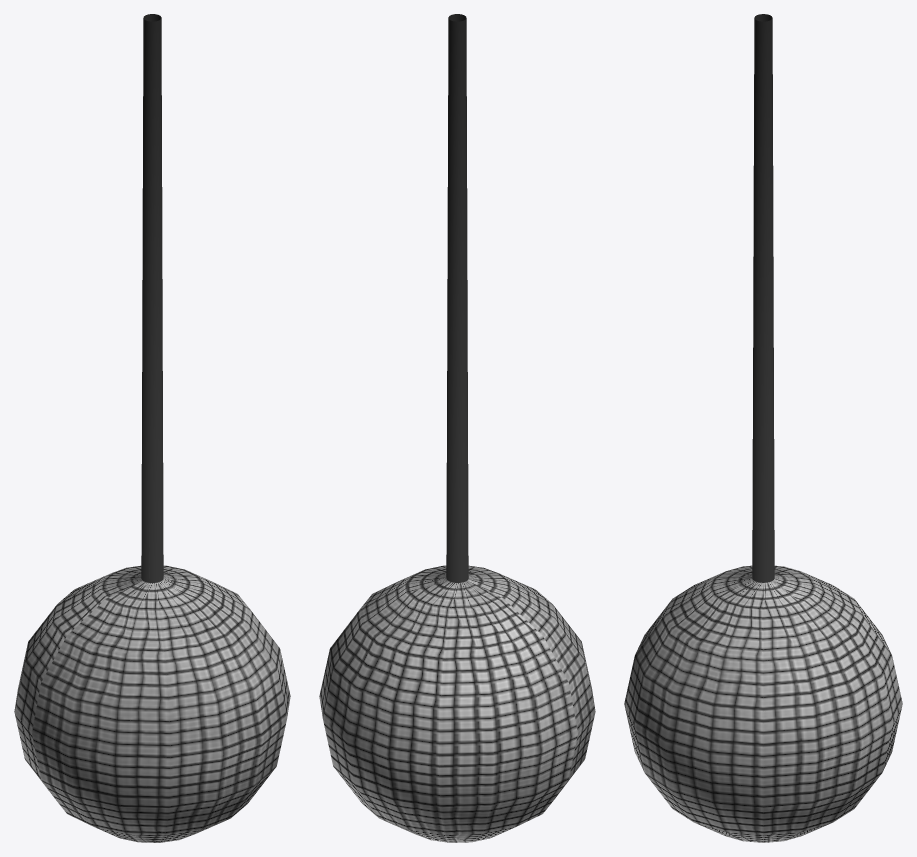
Rendered from Disco.glb.
3 renders of one model, left to right at view 1: azimuth 30°, elevation 25°; view 2: azimuth 150°, elevation 25°; view 3: azimuth 270°, elevation 25°, orthographic.
Visible parts, largest first — view 1: Sphere; view 2: Sphere; view 3: Sphere.
Part boxes in pixels (x1,y1,x2,y2): Sphere: (14, 14, 290, 842); Sphere: (319, 14, 595, 842); Sphere: (624, 14, 902, 842).
Size of the model in its own units: 1.08 by 3.47 by 1.08.
Materials: 1 (1 with a texture image).
